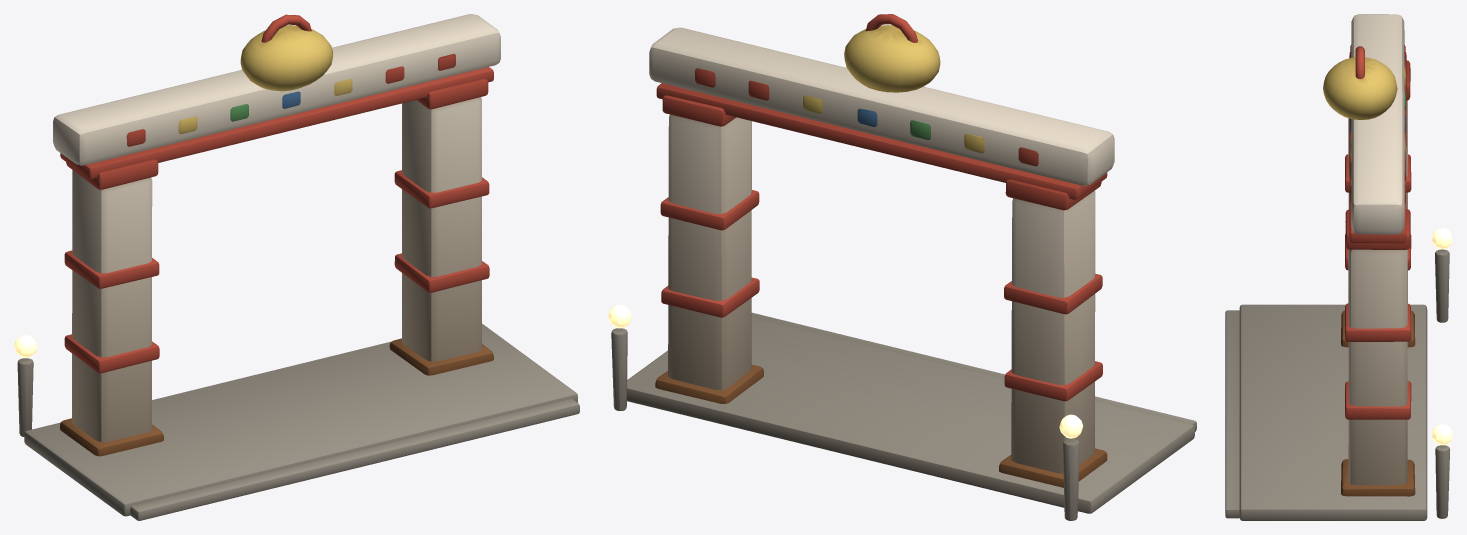
3 views of the same model, side by side, from view 1: azimuth 30°, elevation 25°; view 2: azimuth 150°, elevation 25°; view 3: azimuth 270°, elevation 25° (orthographic). The views are drawn at different scales.
Parts seen in each view (by area): view 1: gate_2f6acfbe; view 2: gate_2f6acfbe; view 3: gate_2f6acfbe.
Boxes of the visible parts, box(x1,y1,x2,y2) form: gate_2f6acfbe: box(14, 14, 579, 520); gate_2f6acfbe: box(608, 14, 1196, 520); gate_2f6acfbe: box(1225, 14, 1452, 520).
Size of the model in its own units: 5.45 by 4.58 by 2.55.
